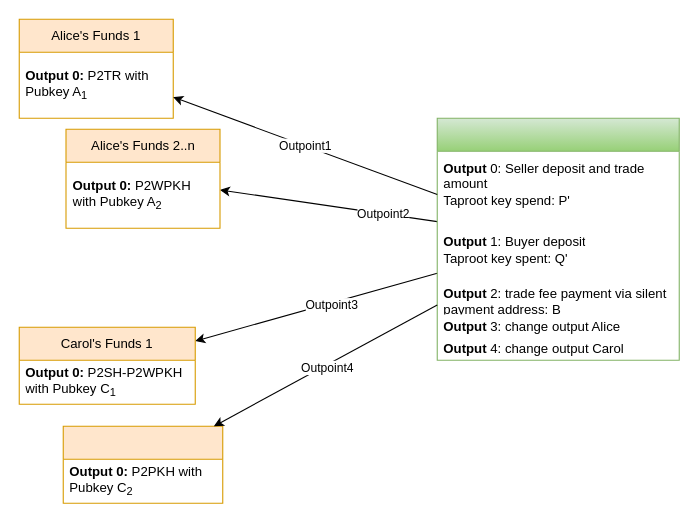
Image size: 699x523. Some labels were removed from this diagram. The shapes that lost their labels are listed below. From the top down, each one's box as (x1, y1, x2, y2) in pixels, then its label:
(436, 117, 679, 360): Deposit Tx
(62, 425, 223, 503): Carol's Funds 2..n
